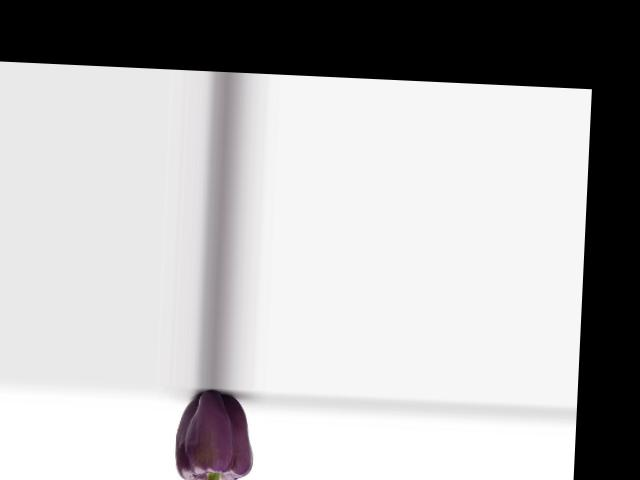bell_pepper: (164, 390, 262, 480)
